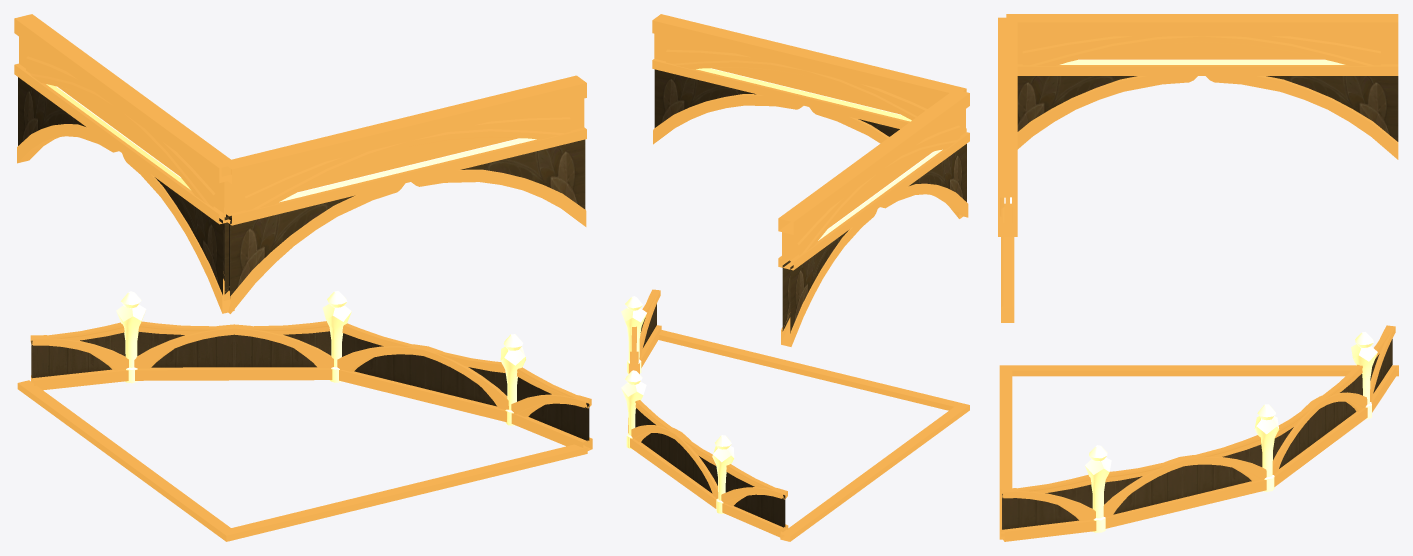
Rendered from Homeworld_Interior_Xm_Room_Wall_09_Vo.fbx.
The picture shows the model from 3 angles, left to right: view 1: azimuth 30°, elevation 25°; view 2: azimuth 150°, elevation 25°; view 3: azimuth 270°, elevation 25°; orthographic projection. The views are drawn at different scales.
Parts seen in each view (by area): view 1: Homeworld_Interior_Xm_Room_Wall_09_Vo; view 2: Homeworld_Interior_Xm_Room_Wall_09_Vo; view 3: Homeworld_Interior_Xm_Room_Wall_09_Vo.
Boxes of the visible parts, x1,y1,x2,y2 form: Homeworld_Interior_Xm_Room_Wall_09_Vo: (14, 14, 592, 541); Homeworld_Interior_Xm_Room_Wall_09_Vo: (621, 14, 969, 541); Homeworld_Interior_Xm_Room_Wall_09_Vo: (998, 14, 1398, 541).
Size of the model in its own units: 5.25 by 5.02 by 5.12.
